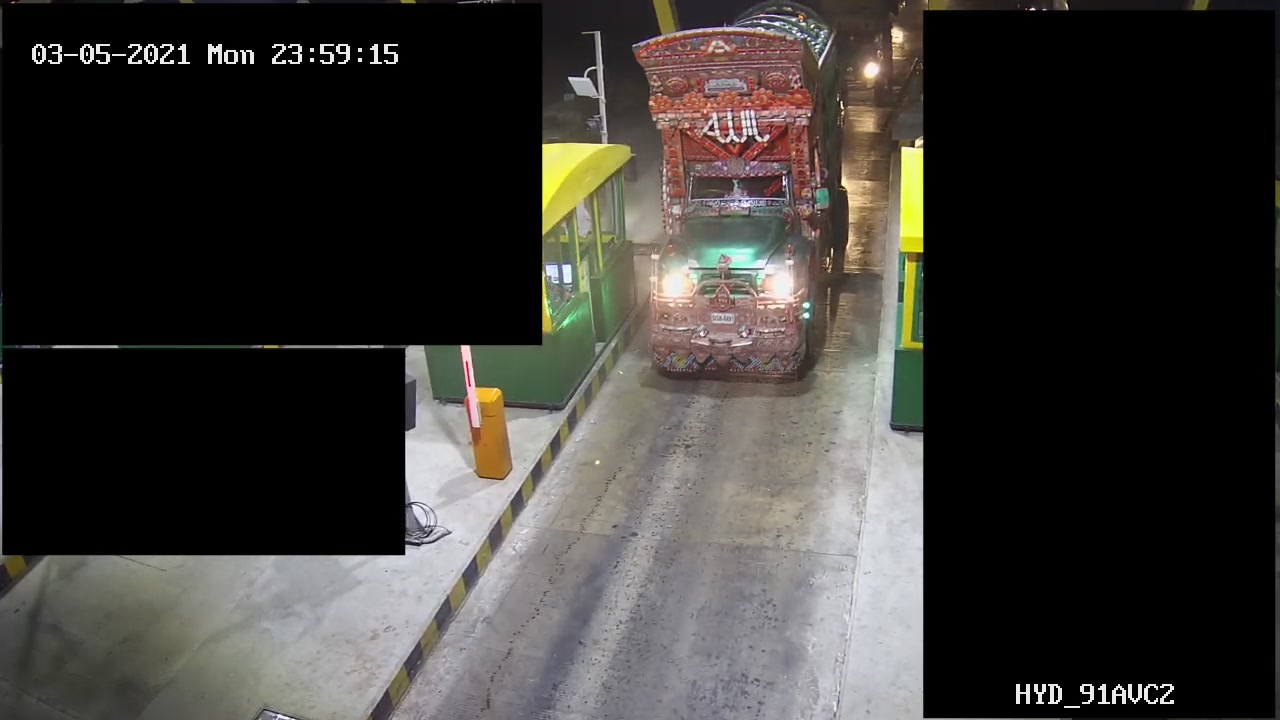F5: (624, 1, 841, 396)
